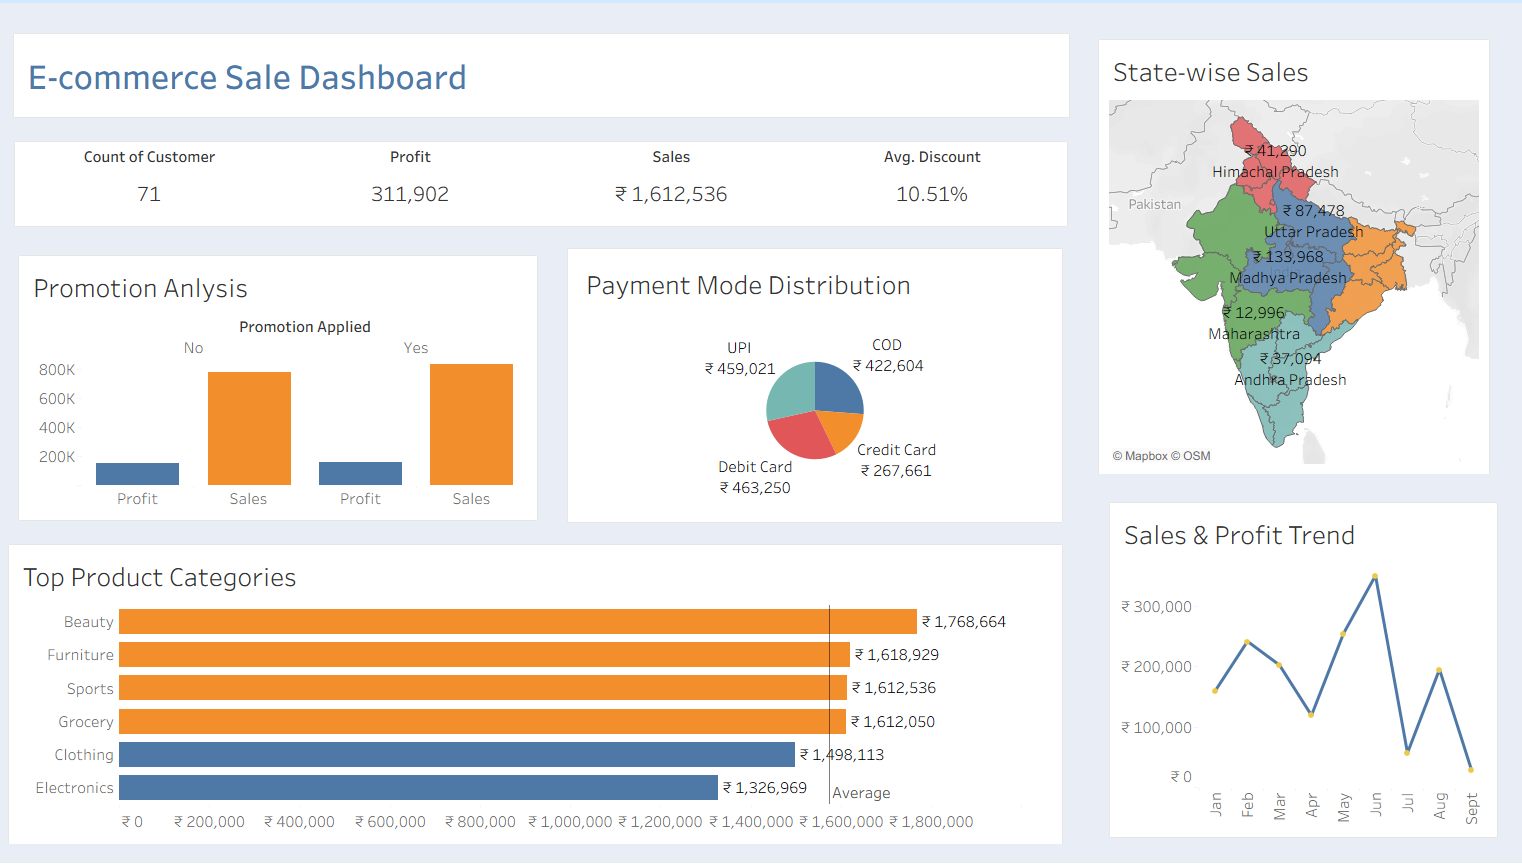

The dashboard page shown, as its layout file describes it:
{"tool":"tableau","page":{"name":"Dashboard 1","canvas":[1000,1000],"units":"permille","ordinal":0},"visuals":[{"type":"text","box":[12.9,23.7,694.8,122.2]},{"type":"worksheet","title":"State-wise Sales","mark":"Multipolygon","box":[712.9,29.9,265.8,529.9]},{"type":"worksheet","title":"KPI","mark":"Automatic","box":[20.7,162.1,678.7,96]},{"type":"worksheet","title":"Promotion Anlysis","mark":"Automatic","cols":["Promotion Applied"],"box":[16.1,281.8,348.4,332.9]},{"type":"worksheet","title":"Payment Mode Distribution","mark":"Pie","box":[383.9,299.3,305.8,290.5]},{"type":"worksheet","title":"Sales & Profit Trend","mark":"Automatic","rows":["Sales","Sales"],"cols":["Order Date"],"box":[720,568.6,263.9,414]},{"type":"worksheet","title":"Top Product Categories","mark":"Automatic","rows":["Product Category"],"cols":["Sales"],"box":[9.7,617.2,693.6,372.8]}]}

Visuals, with their boxes on the dashboard's canvas, which has no fixed pixel size, in thousandths of its width and height (x1, y1, x2, y2). These are canvas units, not pixel positions in the 1522x867 screenshot, which may show the page scaled, cropped or inside an application window:
text: (13,24,708,146)
"State-wise Sales" worksheet (Multipolygon marks): (713,30,979,560)
"KPI" worksheet: (21,162,699,258)
"Promotion Anlysis" worksheet: (16,282,364,615)
"Payment Mode Distribution" worksheet (Pie marks): (384,299,690,590)
"Sales & Profit Trend" worksheet: (720,569,984,983)
"Top Product Categories" worksheet: (10,617,703,990)
